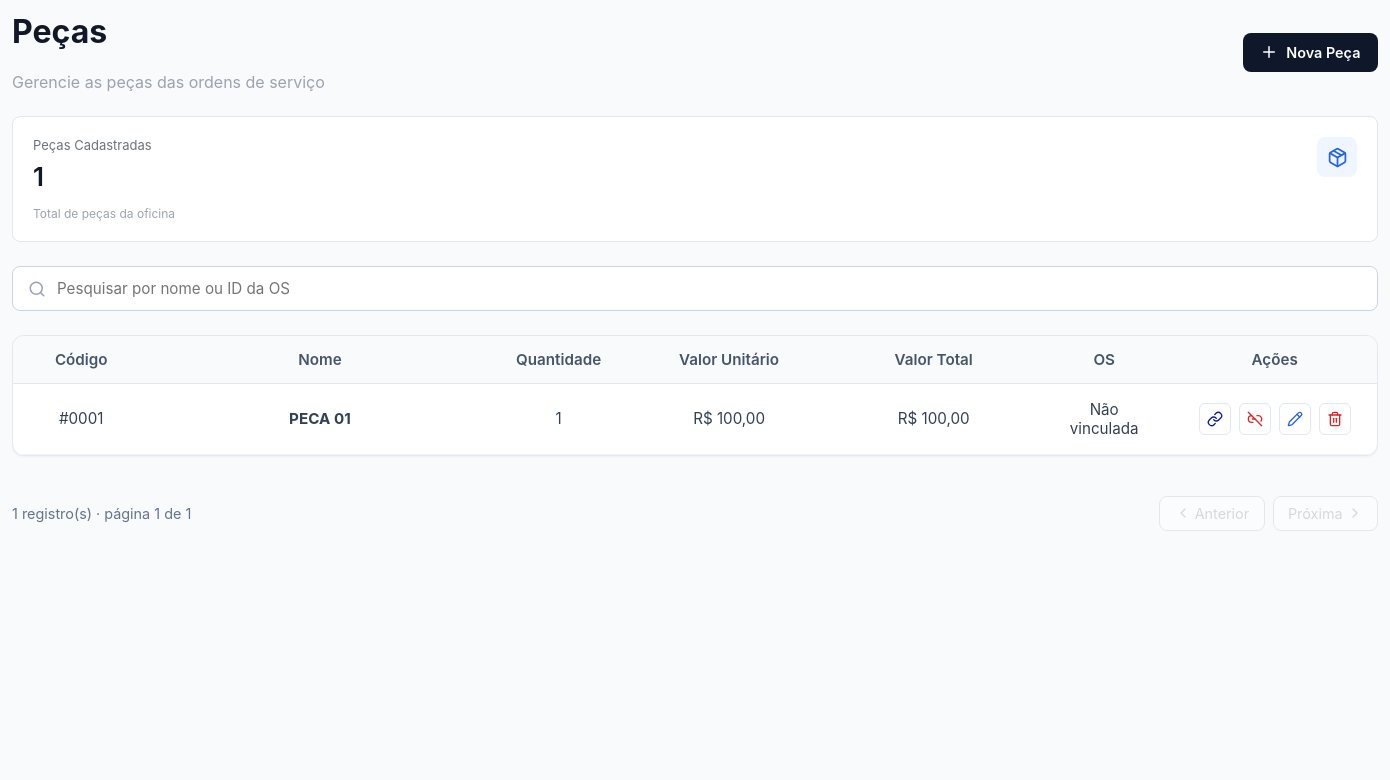
Test: Página de Peças › busca sem resultado mostra a mensagem própria
Expected: the text "PECA 01" is shown, [289, 409, 351, 428]
Step 1. Type "inexistente" into the field with placeholder "Pesquisar por nome ou ID da OS" → (695, 289), box [12, 266, 1378, 311]
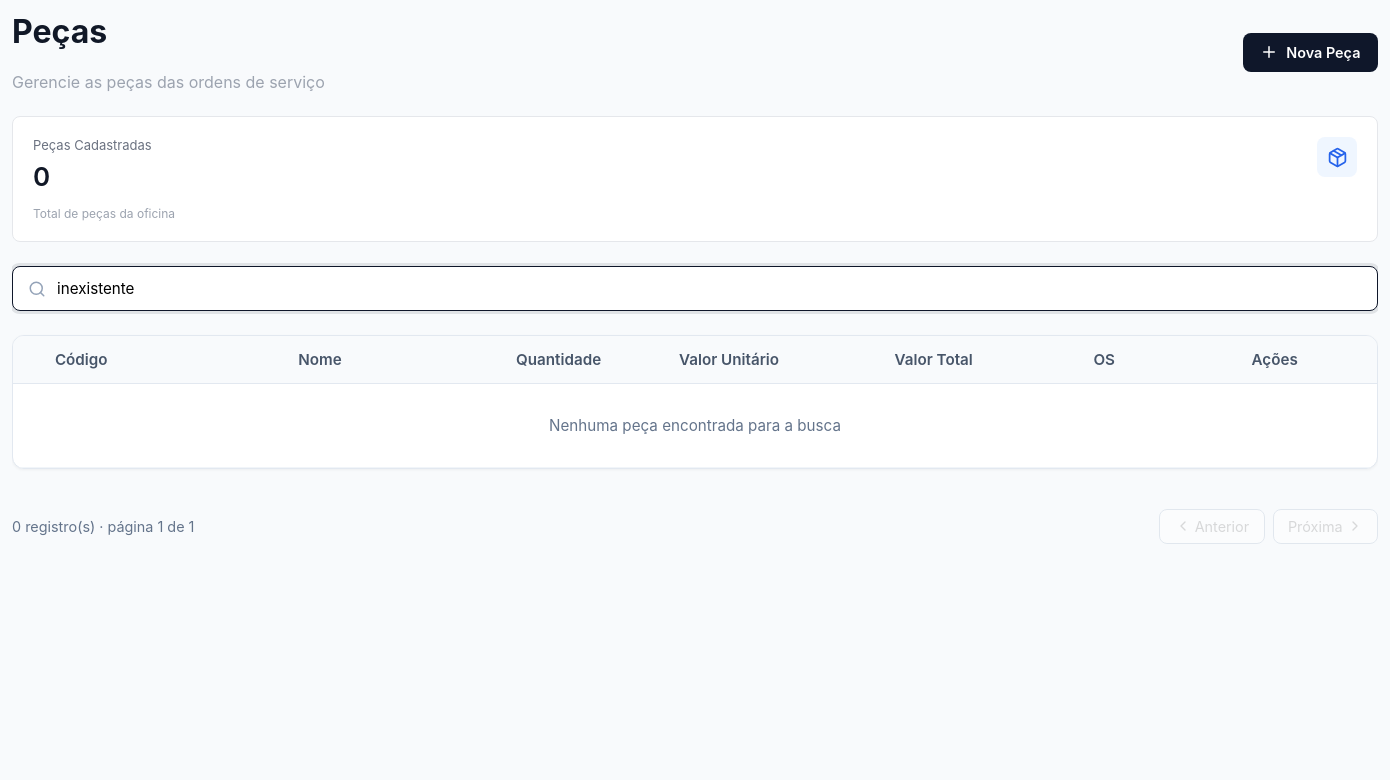
Now the text "Nenhuma peça encontrada para a busca" is shown, box [13, 383, 1377, 467]
